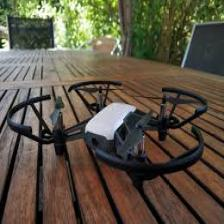drone: (7, 79, 207, 179)
